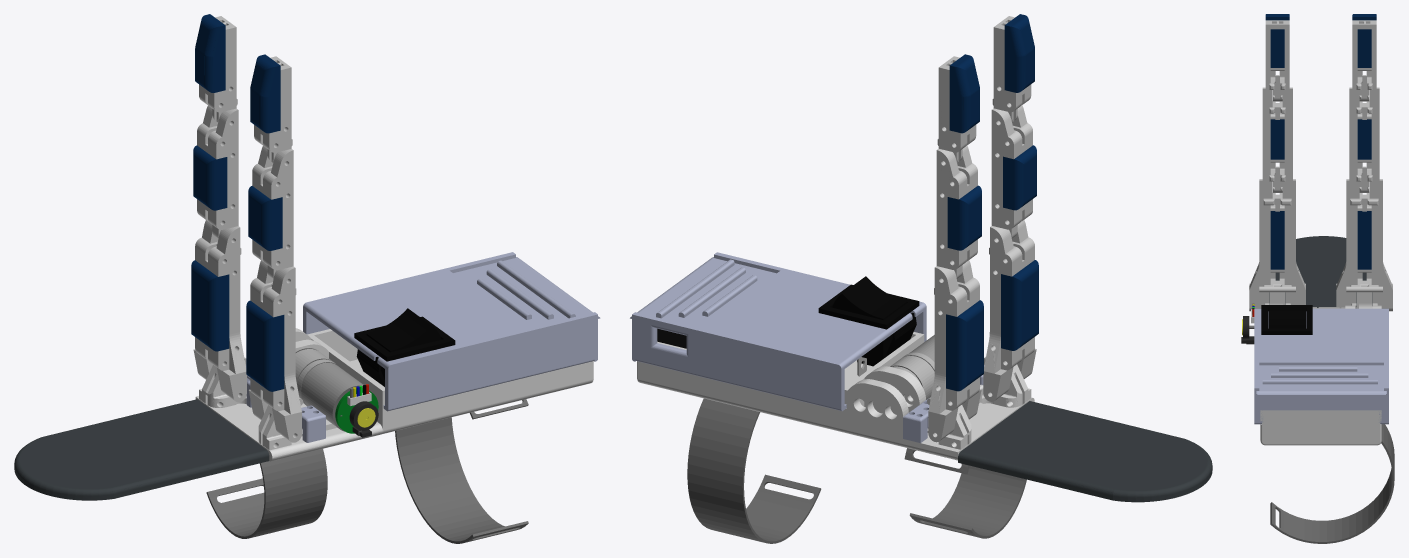
The model's file is DorsalGrasper3.glb.
3 views of the same model, side by side, from view 1: azimuth 30°, elevation 25°; view 2: azimuth 150°, elevation 25°; view 3: azimuth 270°, elevation 25° (orthographic). The views are drawn at different scales.
Parts seen in each view (by area): view 1: 3MFMeshParent_132; view 2: 3MFMeshParent_132; view 3: 3MFMeshParent_132.
Boxes of the visible parts, x1,y1,x2,y2 form: 3MFMeshParent_132: (14,14,600,543); 3MFMeshParent_132: (630,14,1212,543); 3MFMeshParent_132: (1241,14,1394,543).
Size of the model in its own units: 0.2407 by 0.2349 by 0.0758.
